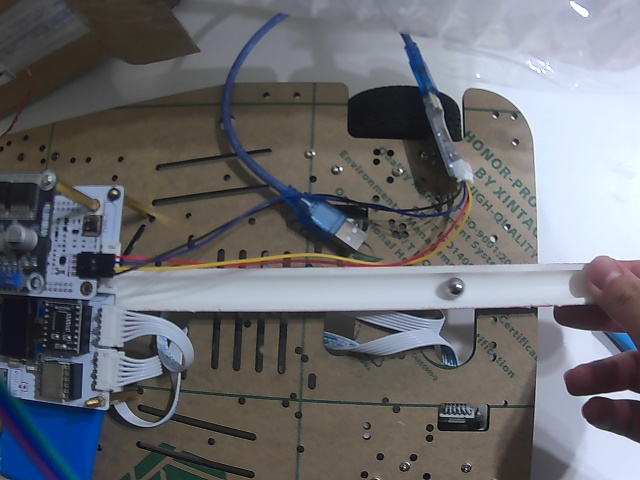steelball: (444, 278, 465, 297)
